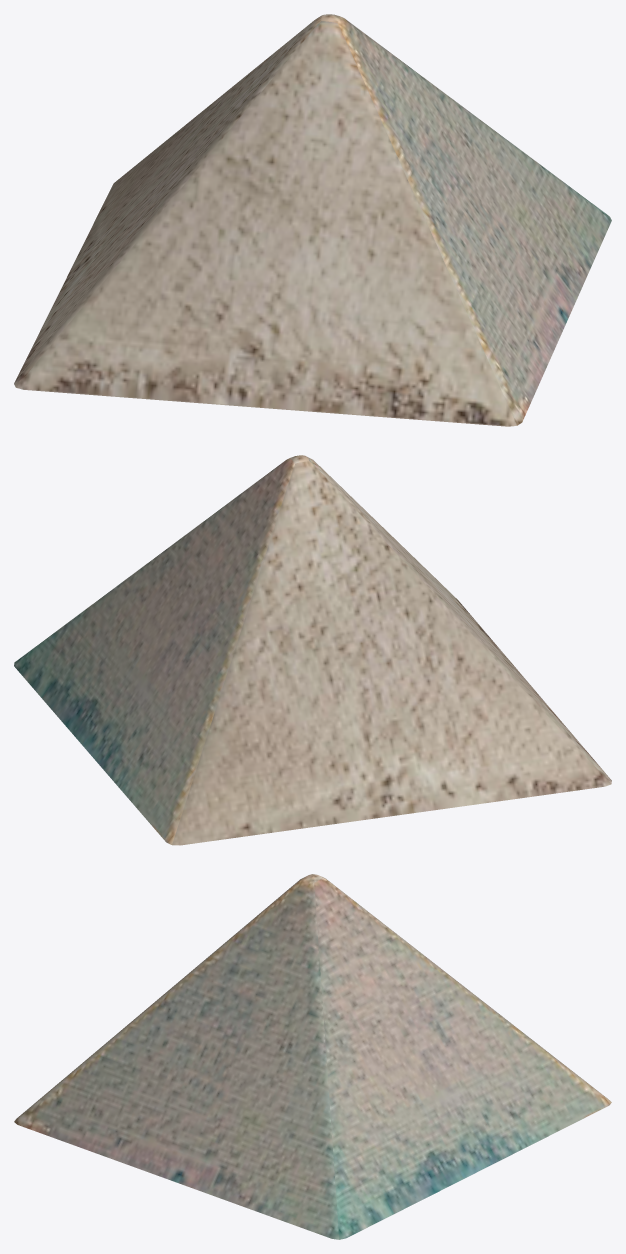
The model's file is 20250702_pyramyds_for_mb_pyramid3.glb.
3 views of the same model, one above another, from view 1: azimuth 30°, elevation 25°; view 2: azimuth 150°, elevation 25°; view 3: azimuth 270°, elevation 25° (orthographic). The views are drawn at different scales.
Parts seen in each view (by area): view 1: Model.002; view 2: Model.002; view 3: Model.002.
Boxes of the visible parts, x1,y1,x2,y2 form: Model.002: [14, 14, 611, 426]; Model.002: [14, 455, 611, 845]; Model.002: [14, 874, 611, 1239].
Size of the model in its own units: 2.79 by 1.22 by 2.73.
1 material, 1 textured.
